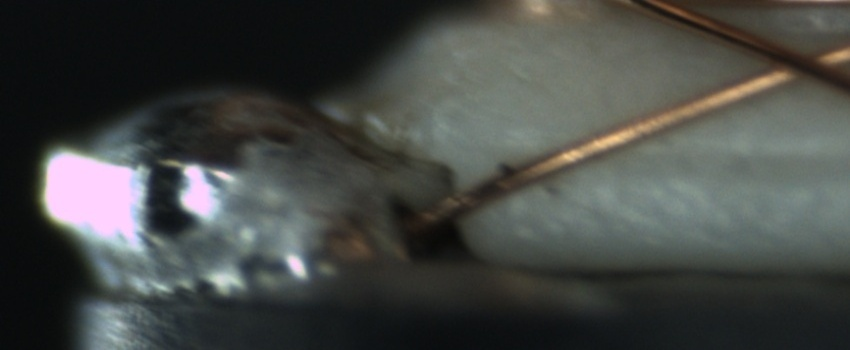CL: (746, 35, 841, 91)
DL: (613, 121, 847, 192)
